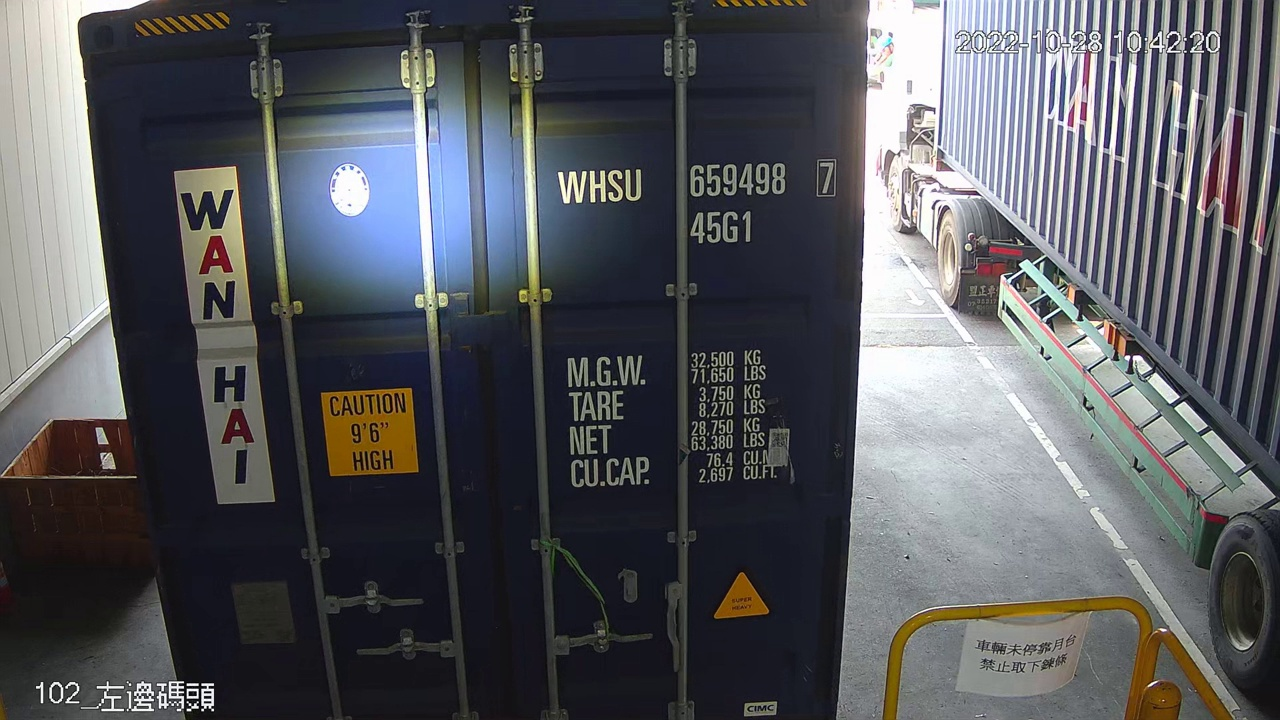container: (551, 151, 844, 249)
